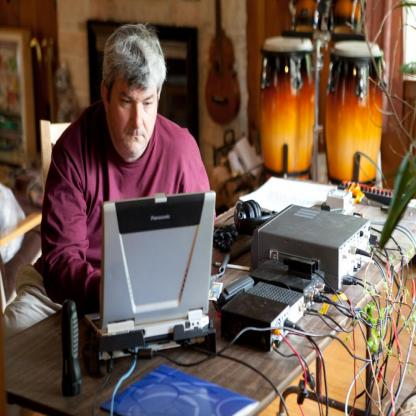board: (84, 186, 217, 351)
